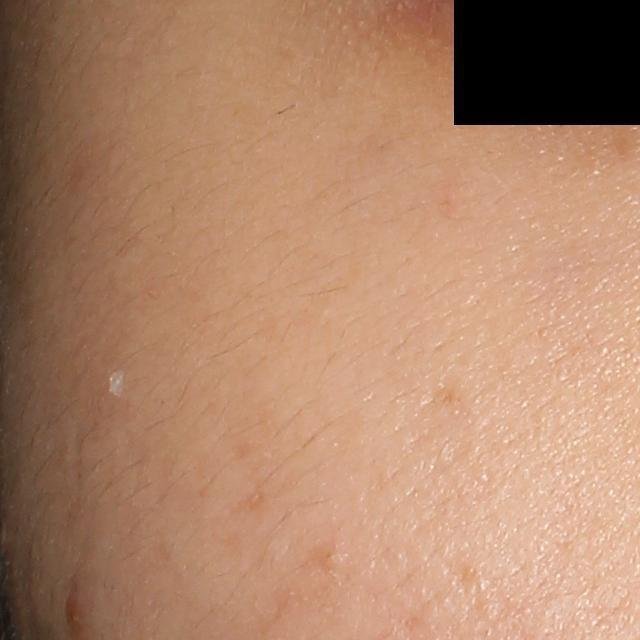comedo: (316, 542, 340, 572)
